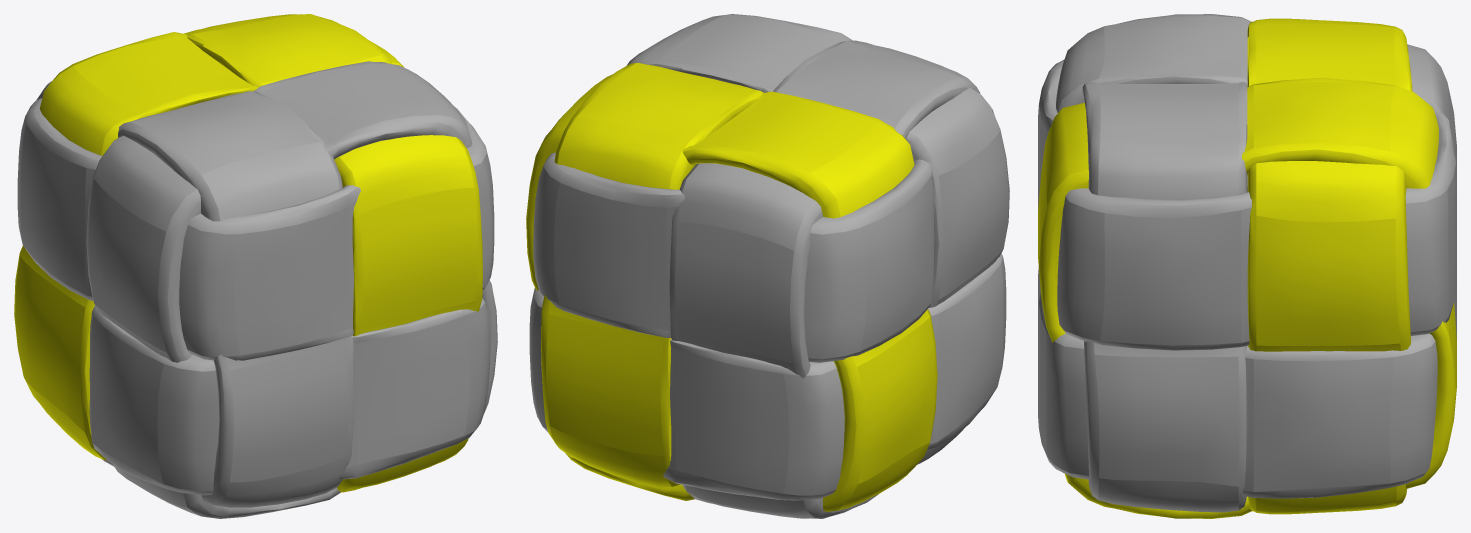
3 views of the same model, side by side, from view 1: azimuth 30°, elevation 25°; view 2: azimuth 150°, elevation 25°; view 3: azimuth 270°, elevation 25° (orthographic). The views are drawn at different scales.
Visible parts, largest first — view 1: 椅子; view 2: 椅子; view 3: 椅子.
Boxes of the visible parts, x1=… form: 椅子: x1=14, y1=14, x2=497, y2=518; 椅子: x1=526, y1=14, x2=1009, y2=518; 椅子: x1=1038, y1=14, x2=1456, y2=518.
Size of the model in its own units: 16.41 by 16.41 by 16.17.
